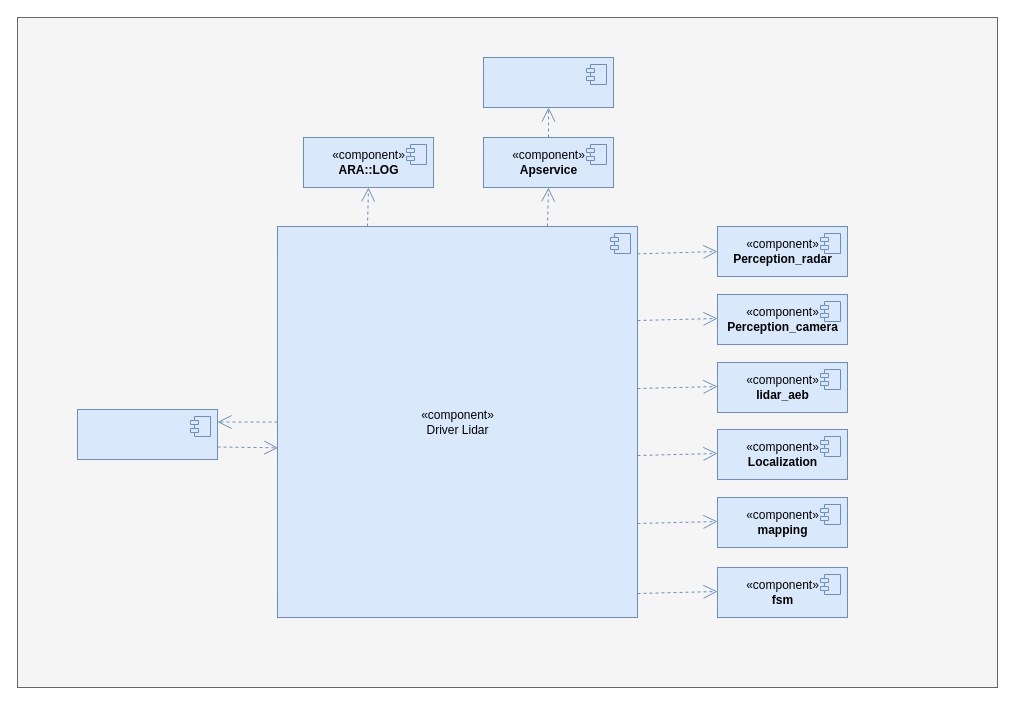
The diagram is 1015 pixels wide and 705 high, and some of its shapes have lost their labels. The centre of each missing label's shape, as x and y in pixels:
«c omponent » ARA::COM: (x=548, y=82)
«c omponent » rslidar_sdk/ouster_sdk: (x=147, y=434)
